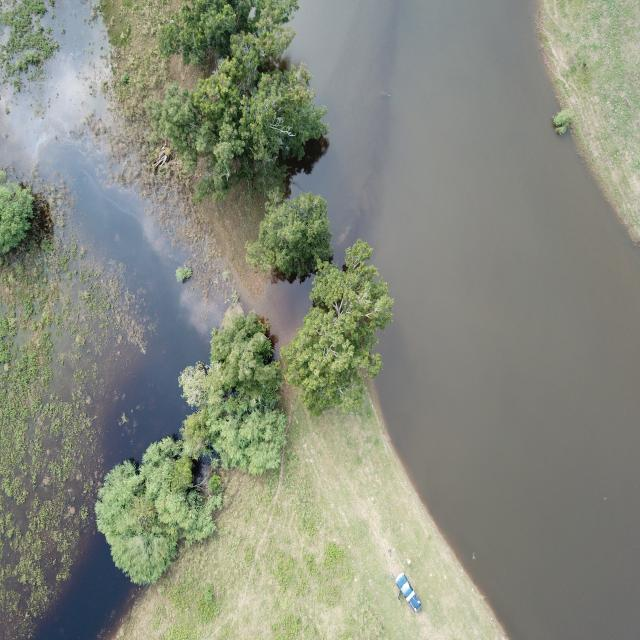fire: (290, 0, 640, 639), (0, 1, 227, 639)
